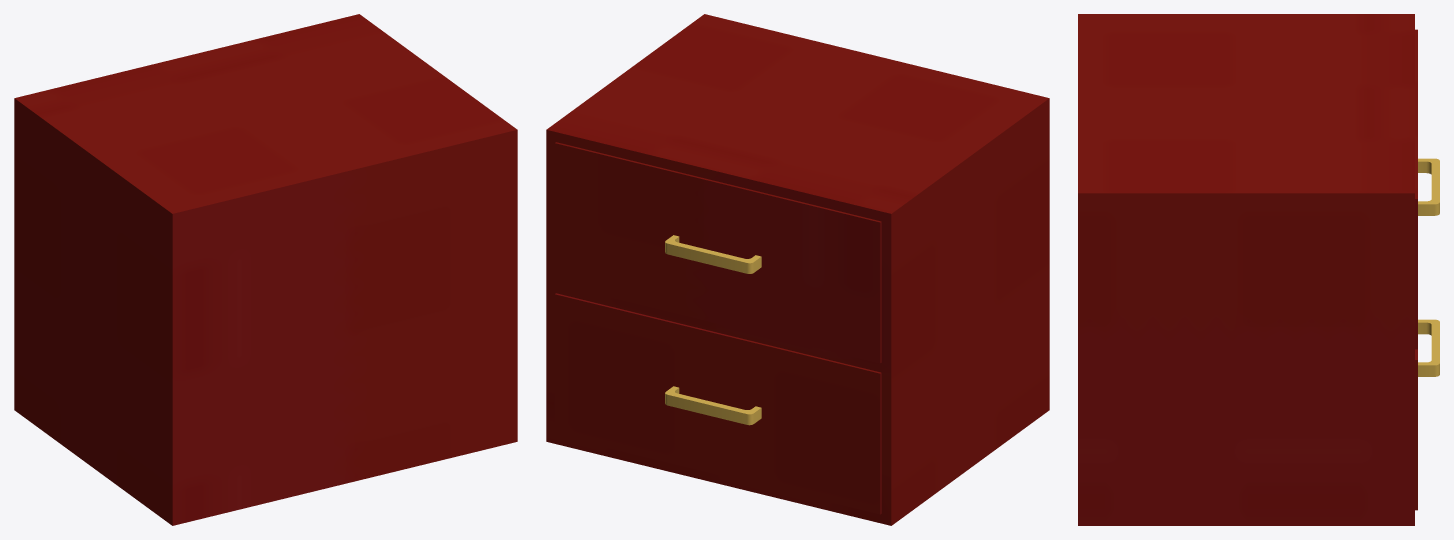
The model's file is Drawer08.glb.
The picture shows the model from 3 angles, left to right: view 1: azimuth 30°, elevation 25°; view 2: azimuth 150°, elevation 25°; view 3: azimuth 270°, elevation 25°; orthographic projection. The views are drawn at different scales.
Visible parts, largest first — view 1: Drawer_Body08; view 2: Drawer_Body08, Drawer08_2, Drawer08_1; view 3: Drawer_Body08, Drawer08_1, Drawer08_2.
Boxes of the visible parts, <box> form: Drawer_Body08: <box>14,14,517,525</box>; Drawer_Body08: <box>546,14,1049,525</box>; Drawer08_2: <box>554,293,881,514</box>; Drawer08_1: <box>554,142,881,363</box>; Drawer_Body08: <box>1078,14,1414,525</box>; Drawer08_1: <box>1415,29,1439,349</box>; Drawer08_2: <box>1415,319,1439,510</box>.
Bounding box in the file's own units: 1.13 × 0.9779 × 0.9643.
1 material, 1 textured.
